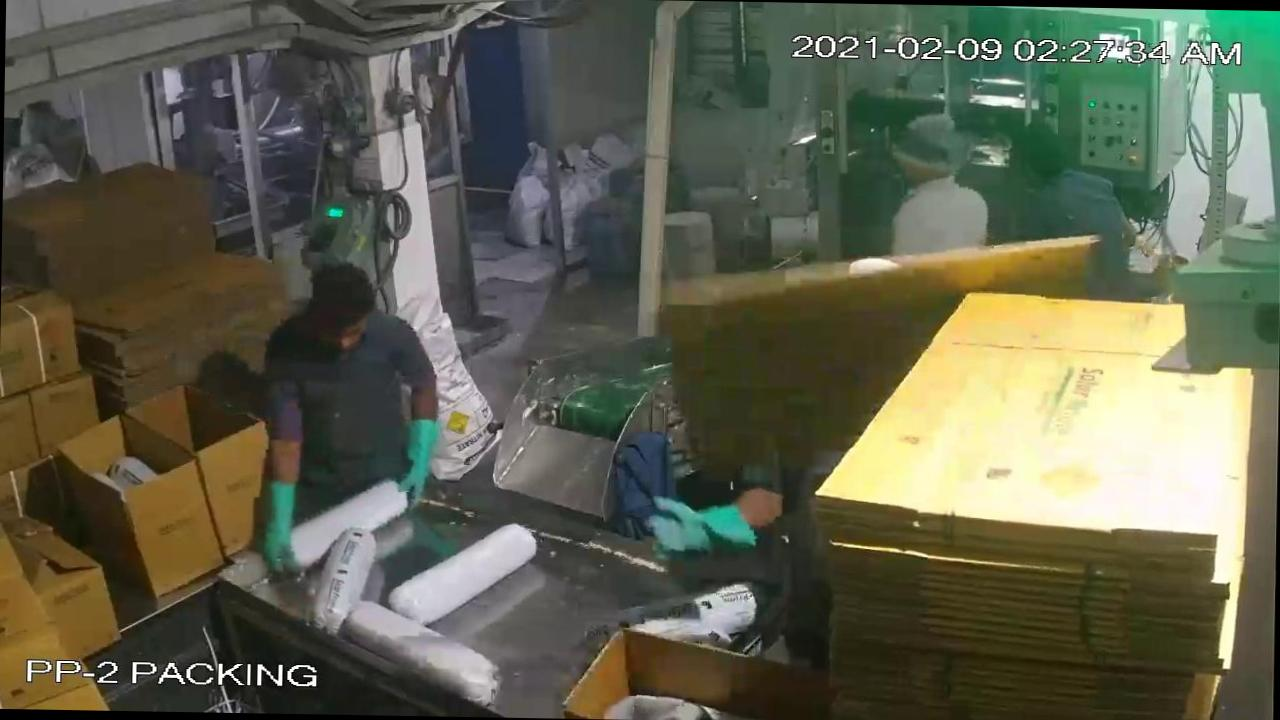Gloves: (634, 484, 790, 569), (238, 458, 318, 581), (394, 401, 447, 518)
